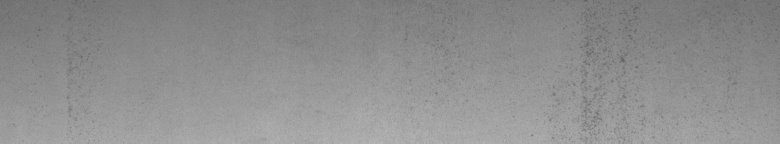ib: (568, 5, 641, 132)
